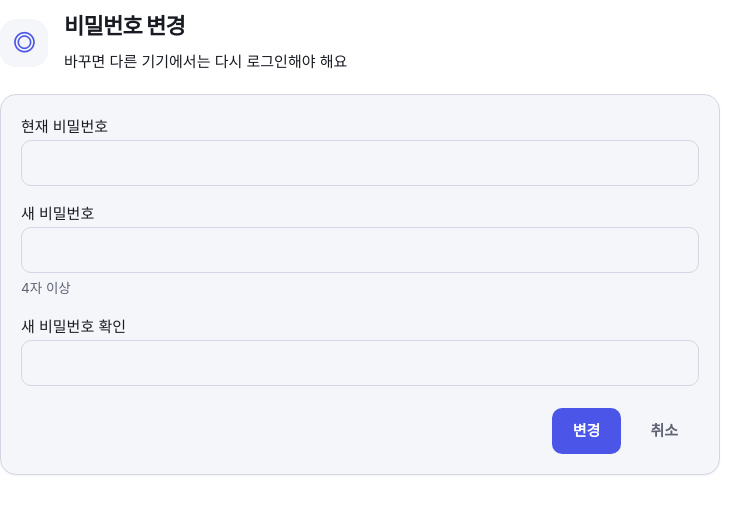
Scenario: 비밀번호 변경 — '틀린 것만 지운다' (설계/04 §4-1) › 길이 위반(VALIDATION_ERROR)은 아무 칸도 비우지 않는다 (자기가 뭘 쳤는지 보고 고쳐야 한다)
Type "1234" into the password field labelled "현재 비밀번호" at (360, 163), box [21,140,699,186]
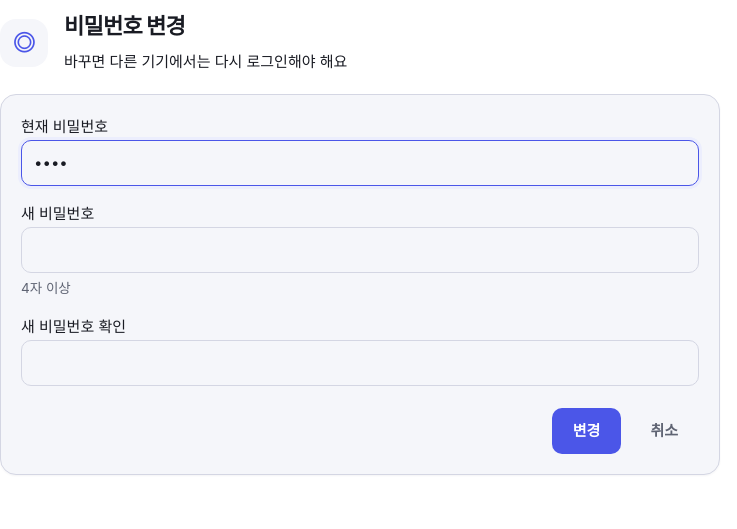
Type "newpass1234" into the password field labelled "새 비밀번호" at (360, 250), box [21,227,699,273]
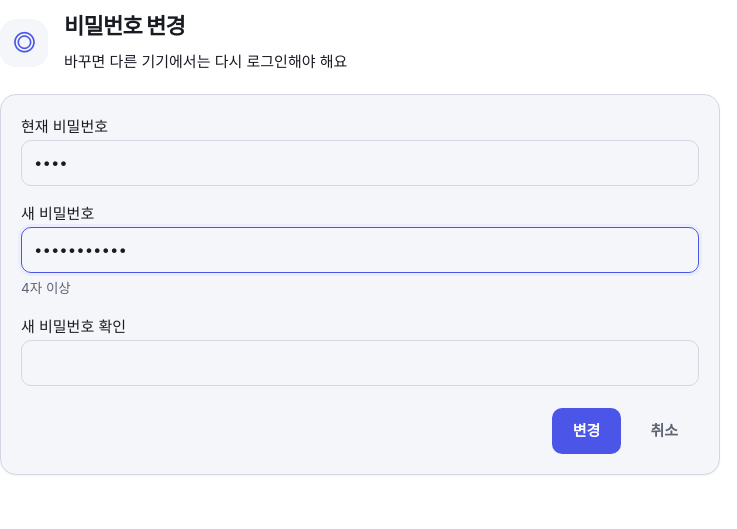
Type "newpass1234" into the password field labelled "새 비밀번호 확인" at (360, 363), box [21,340,699,386]
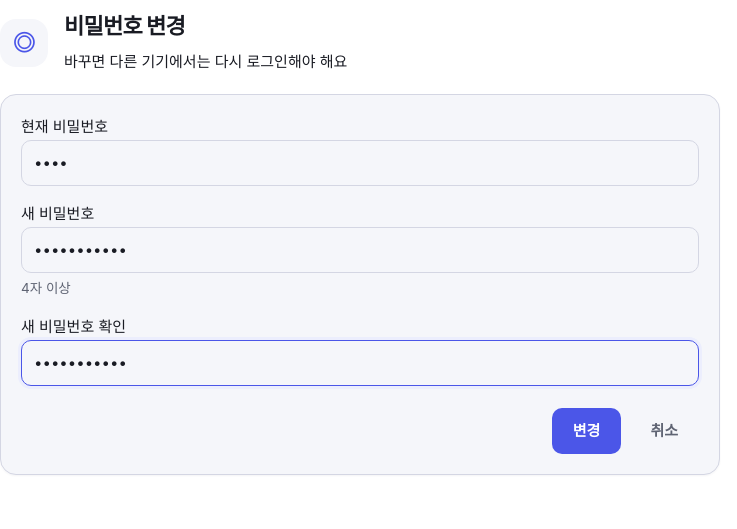
Click the button "변경" at (587, 431), box [552,408,621,454]
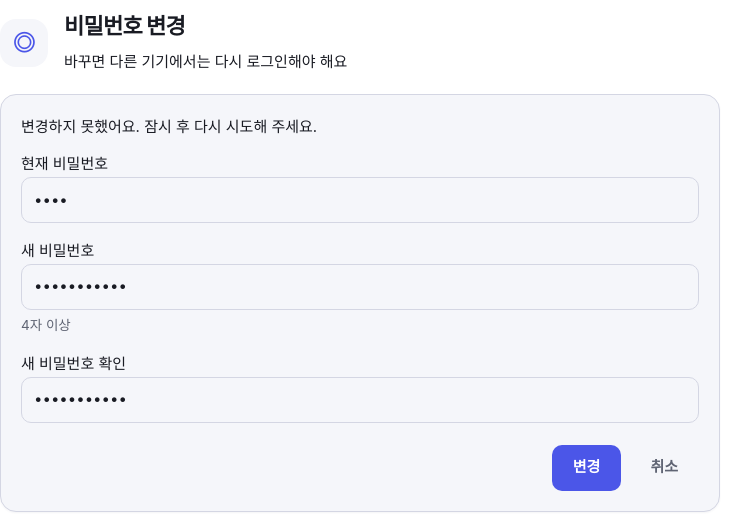
Result: the message "변경하지 못했어요. 잠시 후 다시 시도해 주세요." is shown at [21,117,317,136]
